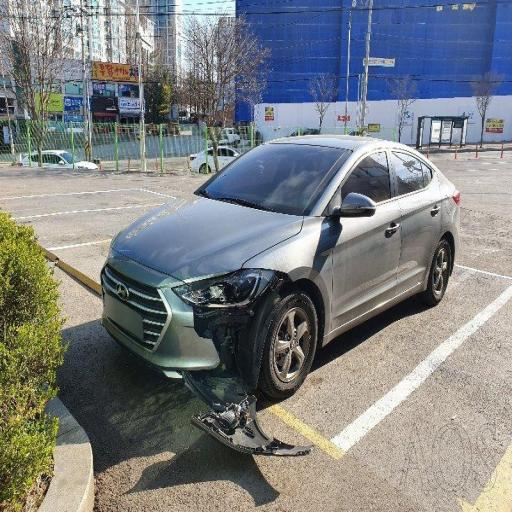broken: (169, 256, 302, 410)
scratch: (384, 183, 454, 287)
